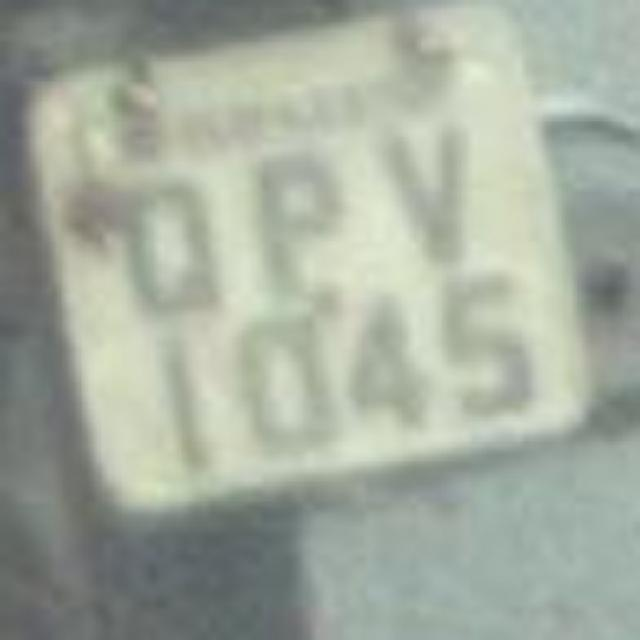0: (216, 296, 349, 469)
1: (124, 308, 236, 480)
4: (328, 271, 444, 444)
5: (424, 260, 551, 425)
B: (515, 92, 640, 332)
P: (240, 128, 360, 300)
V: (372, 108, 496, 272)
